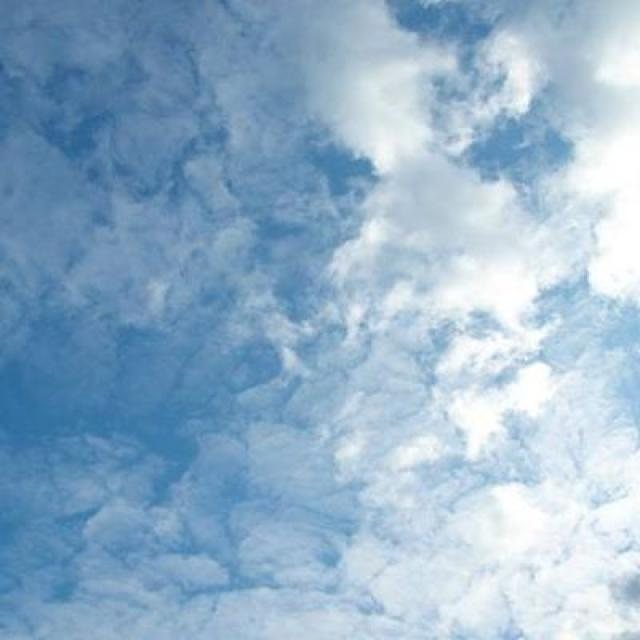As: (2, 24, 636, 559)
